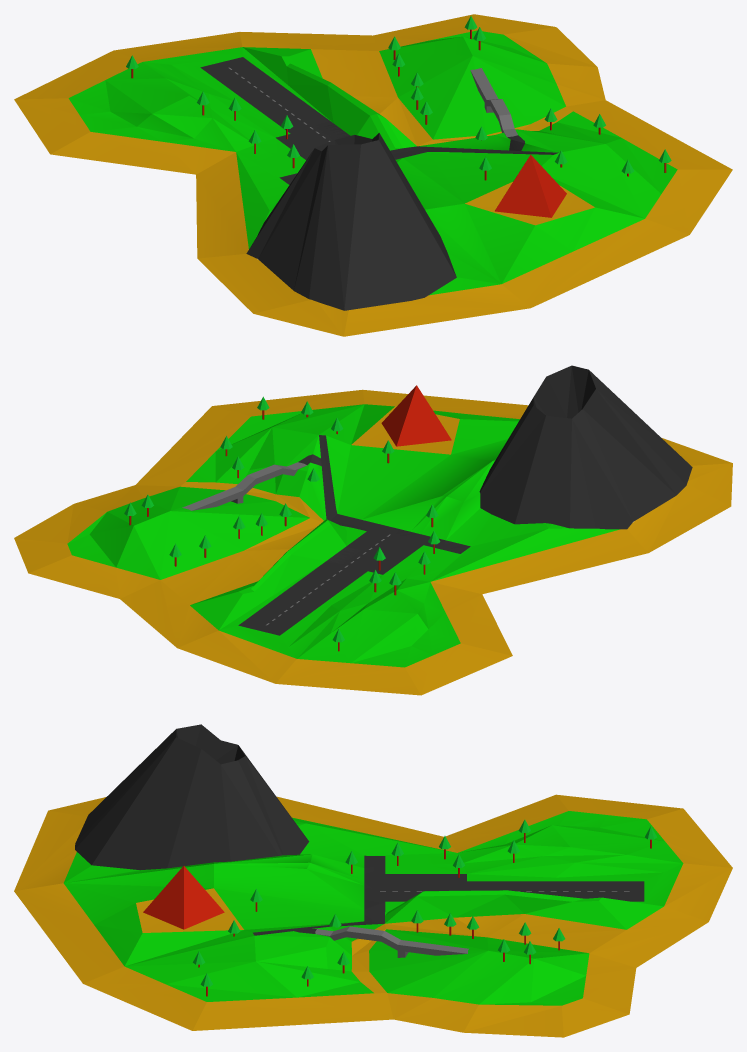
The model's file is islandx.obj.
3 views of the same model, one above another, from view 1: azimuth 30°, elevation 25°; view 2: azimuth 150°, elevation 25°; view 3: azimuth 270°, elevation 25° (orthographic). The views are drawn at different scales.
Visible parts, largest first — view 1: Island, volcano, Pyramid, bridge; view 2: Island, volcano, Pyramid, bridge; view 3: Island, volcano, Pyramid, bridge.
Part boxes in pixels (x1,y1,x2,y2): Island: (14,14,732,336); volcano: (246,133,456,310); Pyramid: (495,154,566,217); bridge: (470,68,517,137); Island: (14,389,732,695); volcano: (479,365,692,529); Pyramid: (381,385,451,446); bridge: (182,462,306,510); Island: (14,794,732,1037); volcano: (75,724,309,870); Pyramid: (143,866,224,929); bridge: (315,926,468,957).
Bounding box in the file's own units: 13.68 × 3.12 × 16.75.
